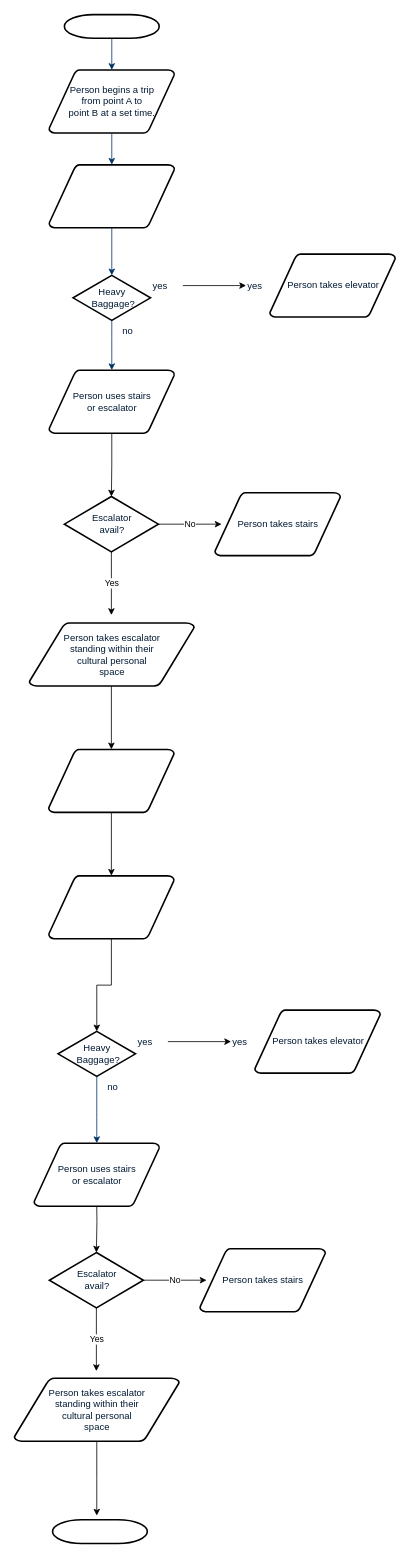
Image size: 410x1558. Some labels were removed from this diagram. The centre of each missing label's shape, as x and y in pixels:
"End" belongs at point (99, 1531).
"Person arrives at platform at time (t)" belongs at point (111, 780).
"Person enters the subway station at Point A." belongs at point (111, 196).
"start" belongs at point (111, 26).
"Train arrives at Point B" belongs at point (111, 907).
